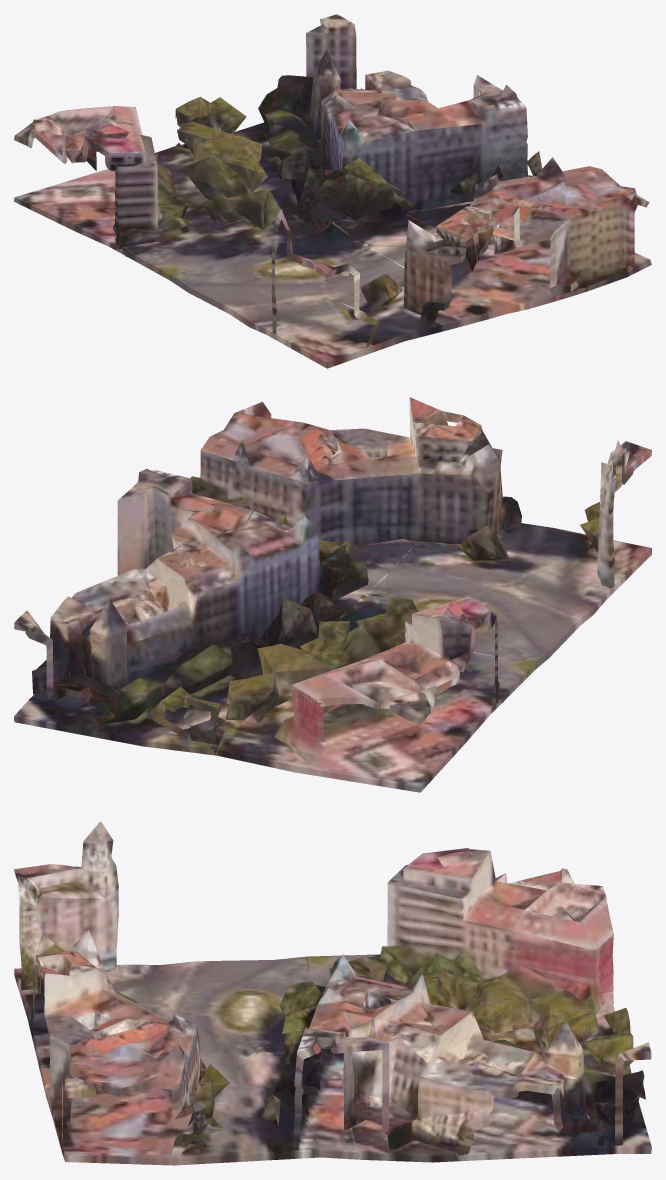
3 views of the same model, one above another, from view 1: azimuth 30°, elevation 25°; view 2: azimuth 150°, elevation 25°; view 3: azimuth 270°, elevation 25° (orthographic). The views are drawn at different scales.
Visible parts, largest first — view 1: Mesh_0; view 2: Mesh_0; view 3: Mesh_0.
Boxes of the visible parts, x1,y1,x2,y2 form: Mesh_0: (14, 14, 651, 368); Mesh_0: (14, 397, 651, 792); Mesh_0: (14, 821, 651, 1165).
Bounding box in the file's own units: 134 × 48.1 × 165.
Materials: 2 (2 with a texture image).
